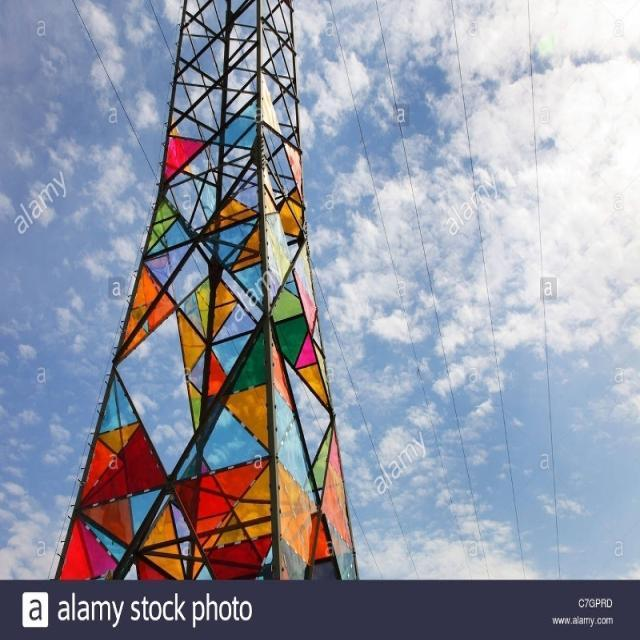non-critical vegetation: (67, 6, 325, 590)
